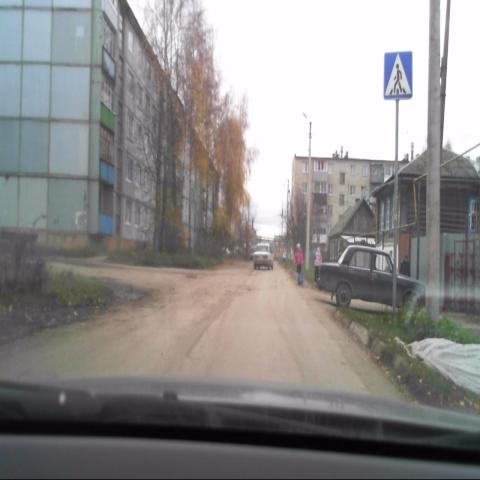5_19_1: (384, 50, 413, 97)
